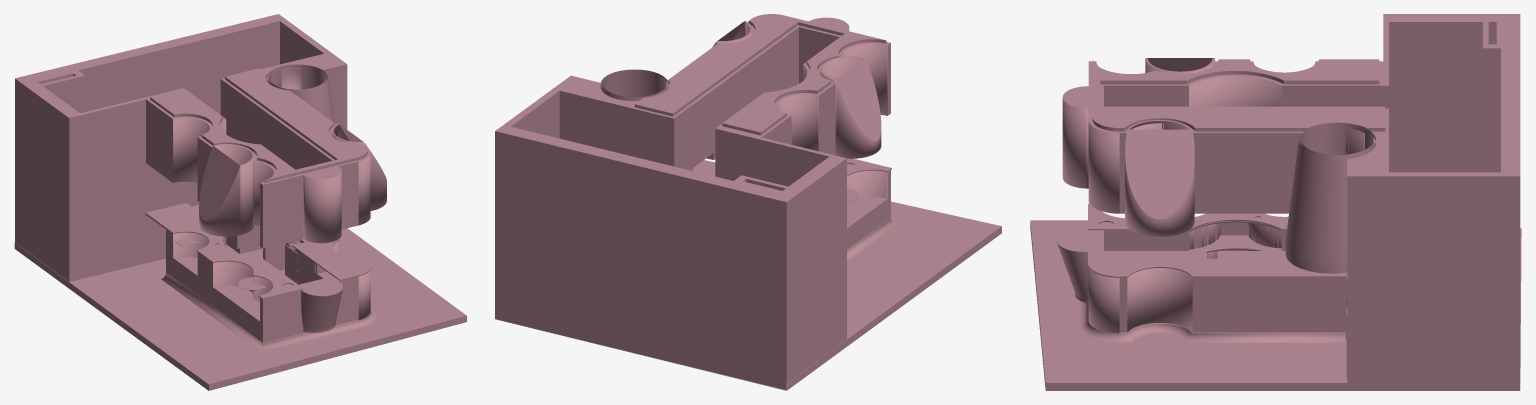
Rendered from asset.glb.
3 renders of one model, left to right at view 1: azimuth 30°, elevation 25°; view 2: azimuth 150°, elevation 25°; view 3: azimuth 270°, elevation 25°, orthographic. The views are drawn at different scales.
Parts seen in each view (by area): view 1: the final model; view 2: the final model; view 3: the final model.
Part boxes in pixels (<box>): the final model: <box>14,14,466,390</box>; the final model: <box>495,14,1001,390</box>; the final model: <box>1030,14,1521,390</box>.
Size of the model in its own units: 4.98 by 3.12 by 6.36.
